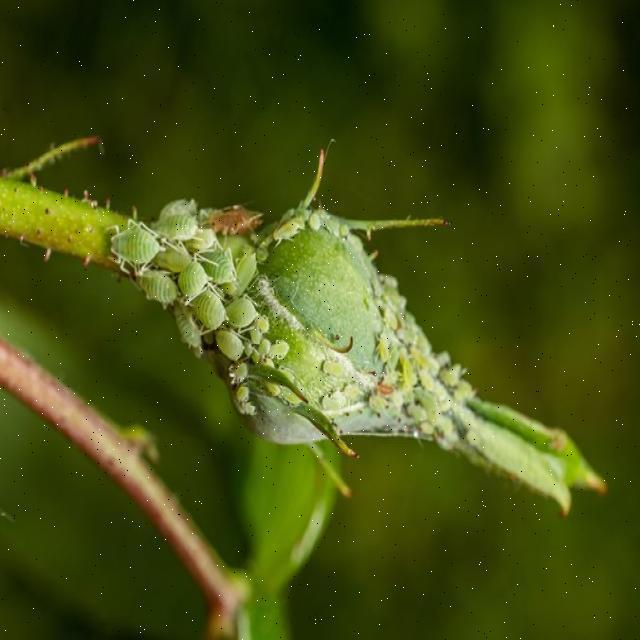Aphids: (102, 216, 168, 276), (129, 244, 184, 314), (211, 319, 252, 369), (193, 281, 224, 342), (174, 257, 208, 297), (223, 300, 260, 335), (264, 327, 296, 362)
